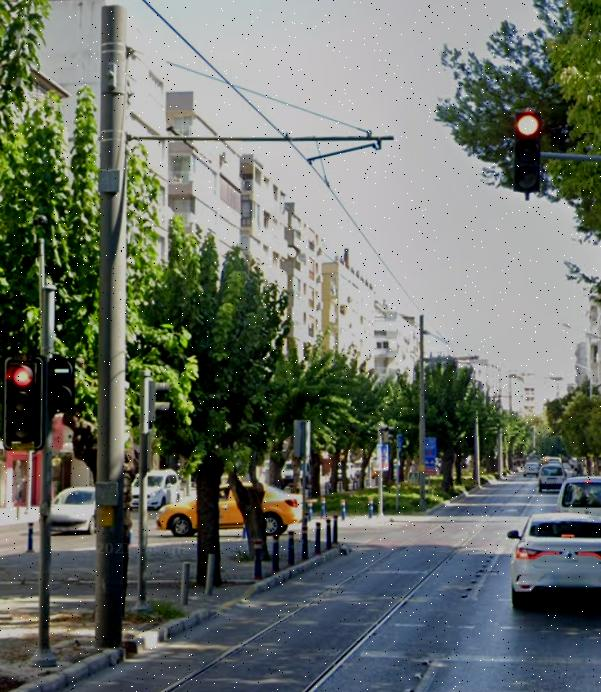redlight: (6, 358, 42, 439), (514, 109, 541, 188)
